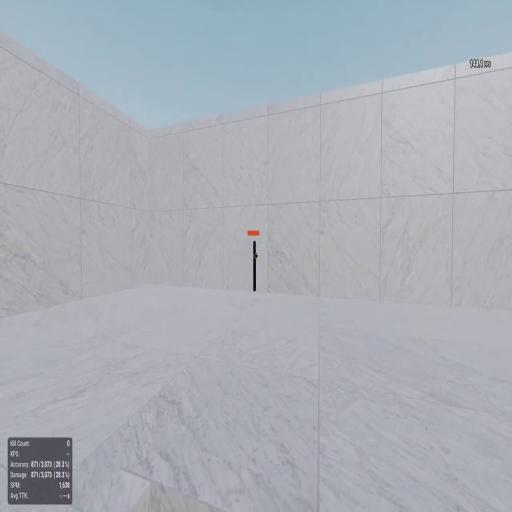Crosshair: (254, 252, 258, 260)
Target: (253, 238, 257, 292)
